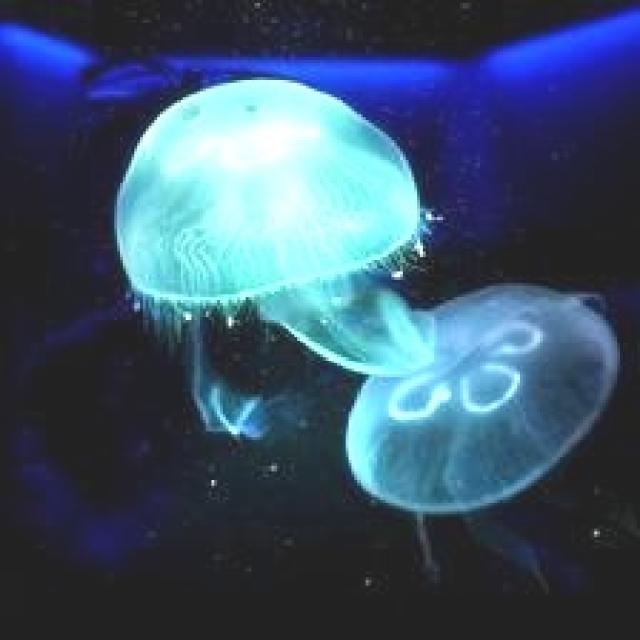Moon-jellyfish: (109, 71, 432, 443), (331, 264, 620, 566)
